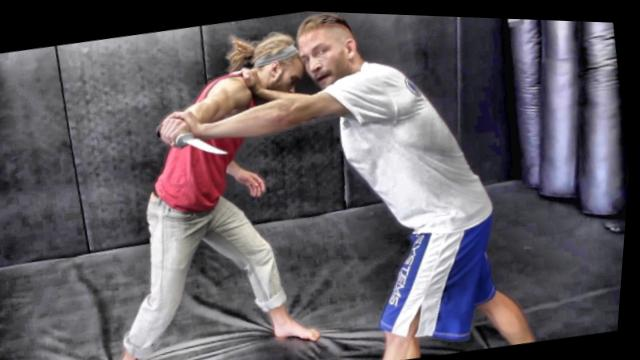knife: (152, 108, 239, 169)
